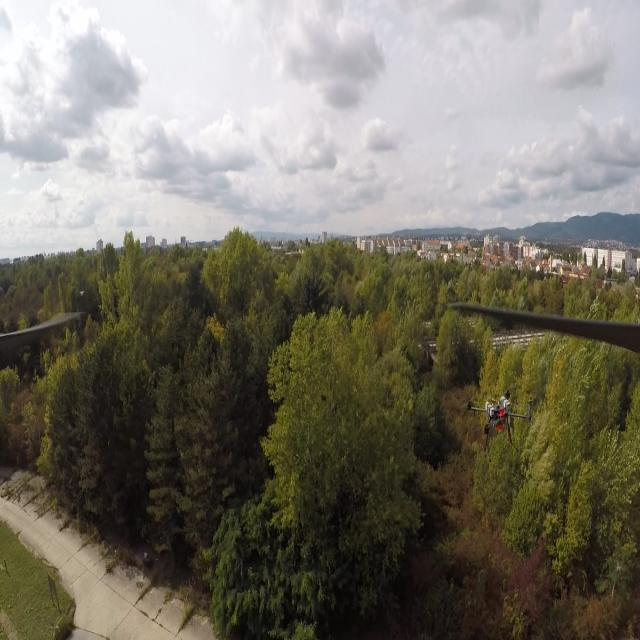UAV: (467, 386, 533, 466)
